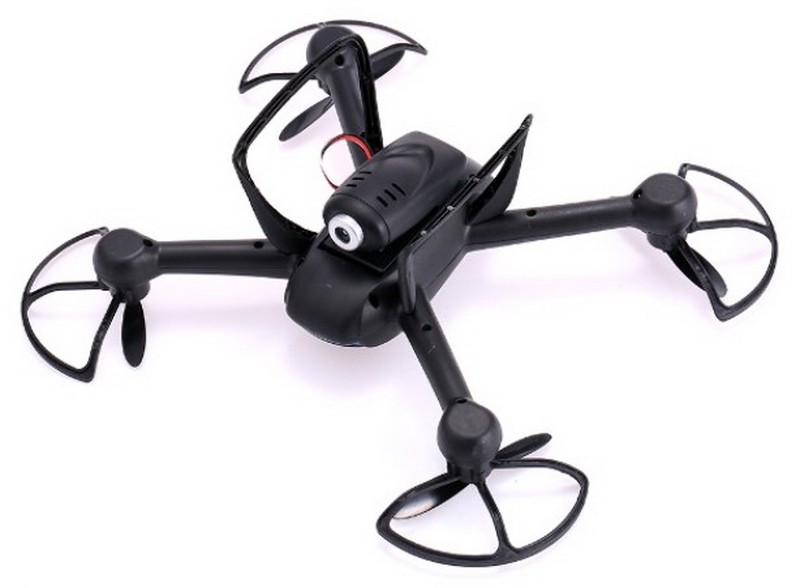drone: (19, 19, 784, 572)
